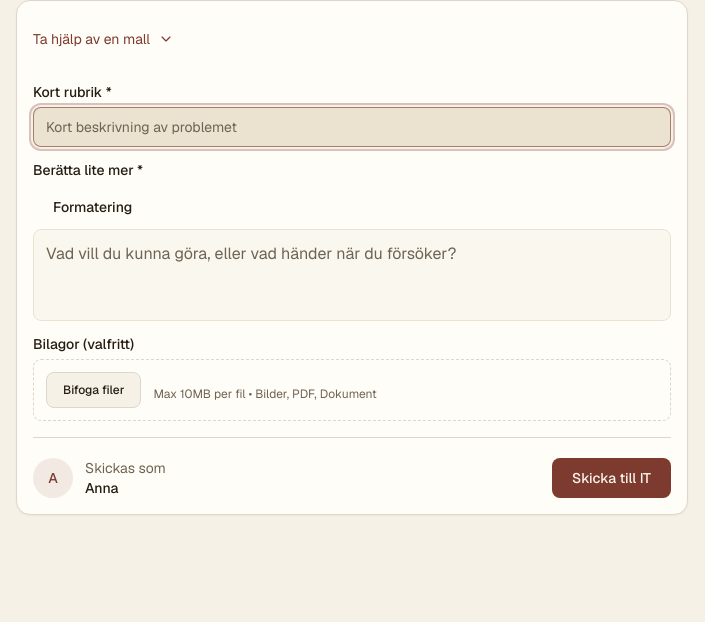
Snabb felanmälan › visar svensk banner och fokuserar editorn vid tomt självserviceärende
Click the button "Skicka till IT": (612, 478) top-left (552, 458), bottom-right (671, 498)
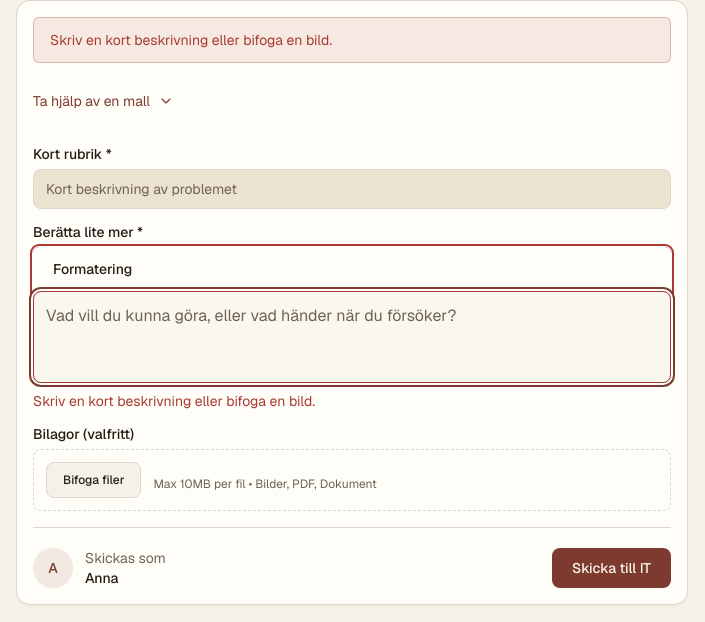
Expected: the message reads "Skriv en kort beskrivning eller bifoga en bild.", top-left (50, 31), bottom-right (332, 49)
